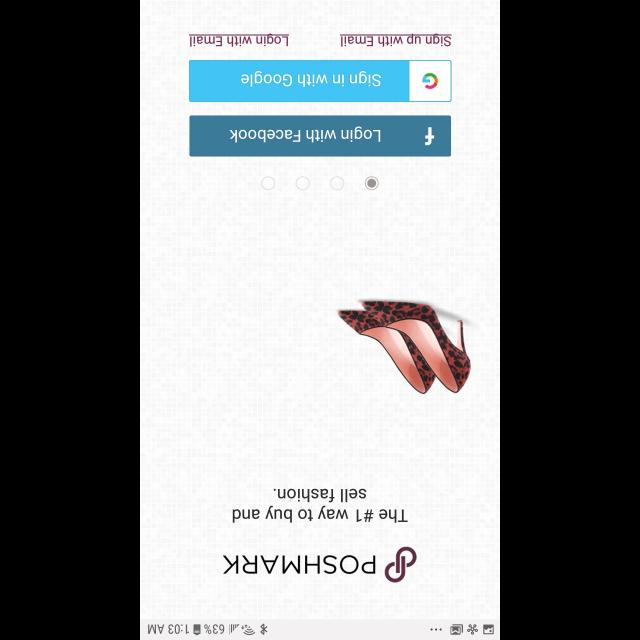image: (337, 300, 471, 394), (384, 546, 416, 582)
pageindicator: (261, 176, 379, 190)
text: (232, 488, 408, 524), (222, 554, 376, 574), (340, 33, 452, 47), (189, 34, 289, 46)
textbutton: (189, 60, 451, 102), (189, 116, 451, 156)
uppertaskbar: (140, 618, 500, 640)
